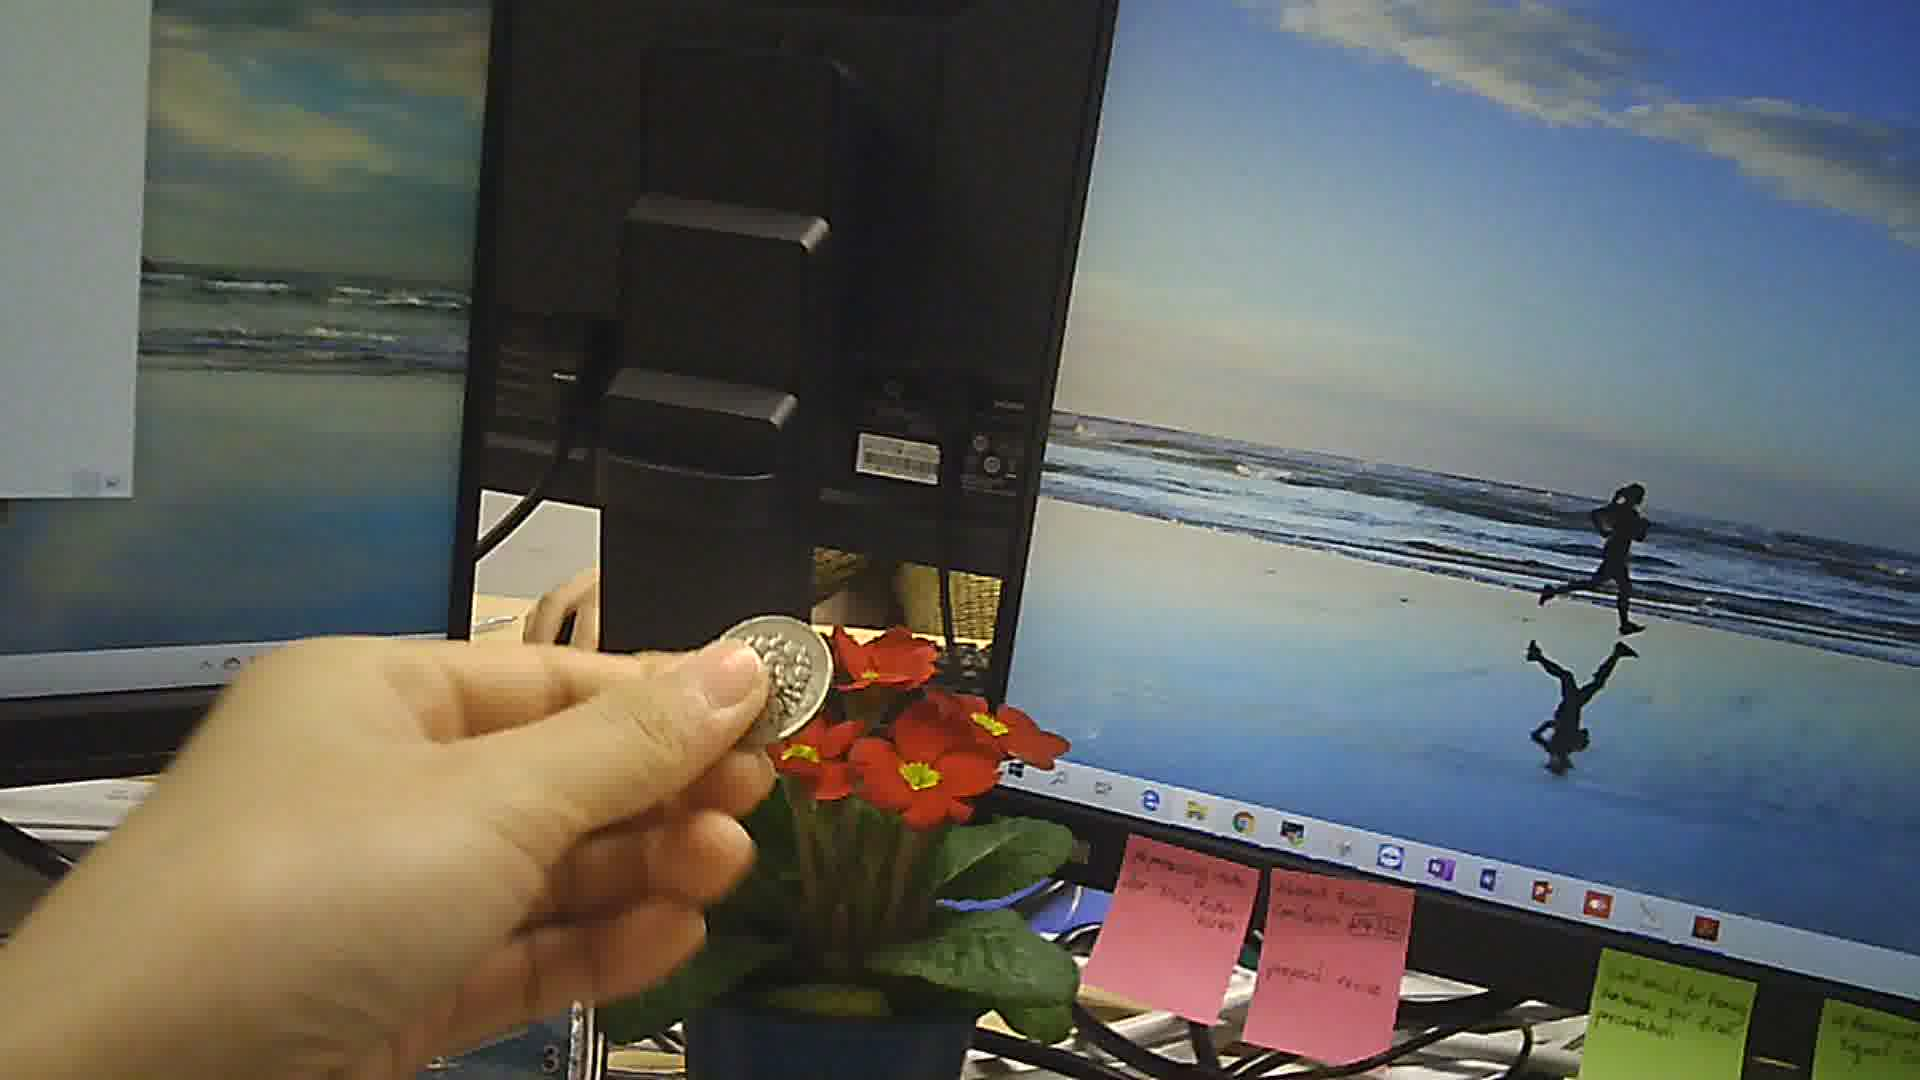100 Yen: (708, 607, 820, 728)
